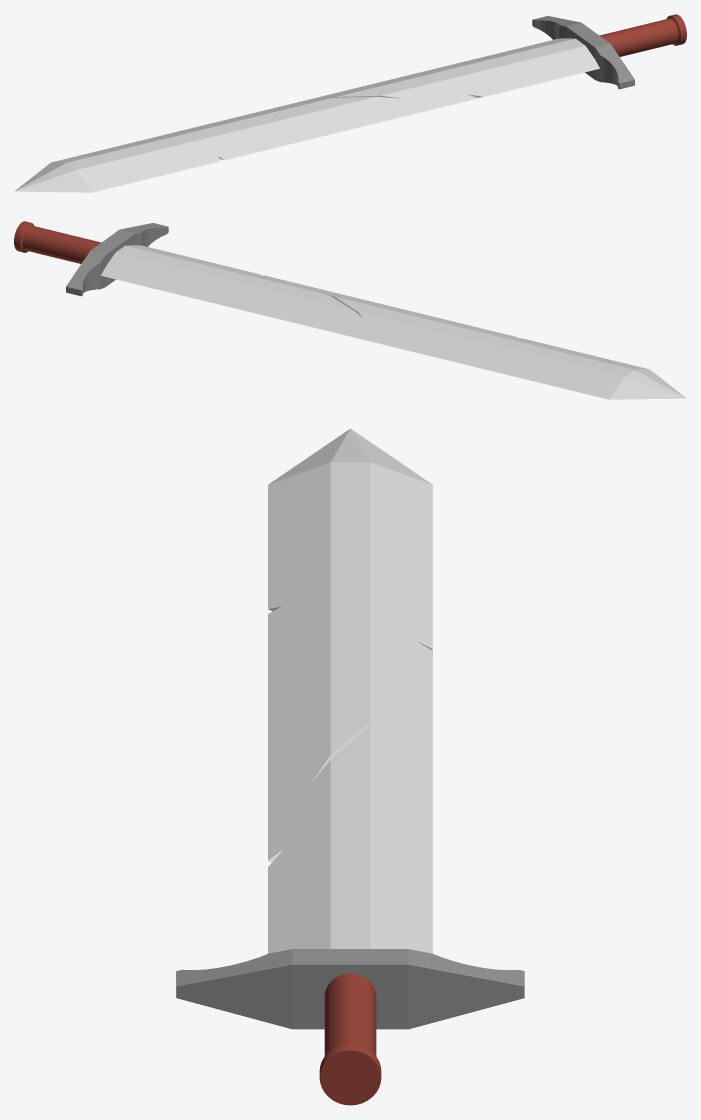
The model's file is shortsword.fbx.
3 views of the same model, one above another, from view 1: azimuth 30°, elevation 25°; view 2: azimuth 150°, elevation 25°; view 3: azimuth 270°, elevation 25° (orthographic). The views are drawn at different scales.
Parts seen in each view (by area): view 1: Cube.001, Cube.002, Cylinder; view 2: Cube.001, Cube.002, Cylinder; view 3: Cube.001, Cube.002, Cylinder.
Boxes of the visible parts, left/top/right/bottom form: Cube.001: left=14, top=38, right=599, bottom=192; Cube.002: left=532, top=16, right=634, bottom=89; Cylinder: left=599, top=14, right=686, bottom=56; Cube.001: left=101, top=245, right=686, bottom=399; Cube.002: left=66, top=223, right=168, bottom=296; Cylinder: left=14, top=221, right=101, bottom=263; Cube.001: left=268, top=428, right=432, bottom=953; Cube.002: left=176, top=949, right=524, bottom=1029; Cylinder: left=319, top=973, right=381, bottom=1105.
Bounding box in the file's own units: 79.92 × 3.76 × 18.12.
